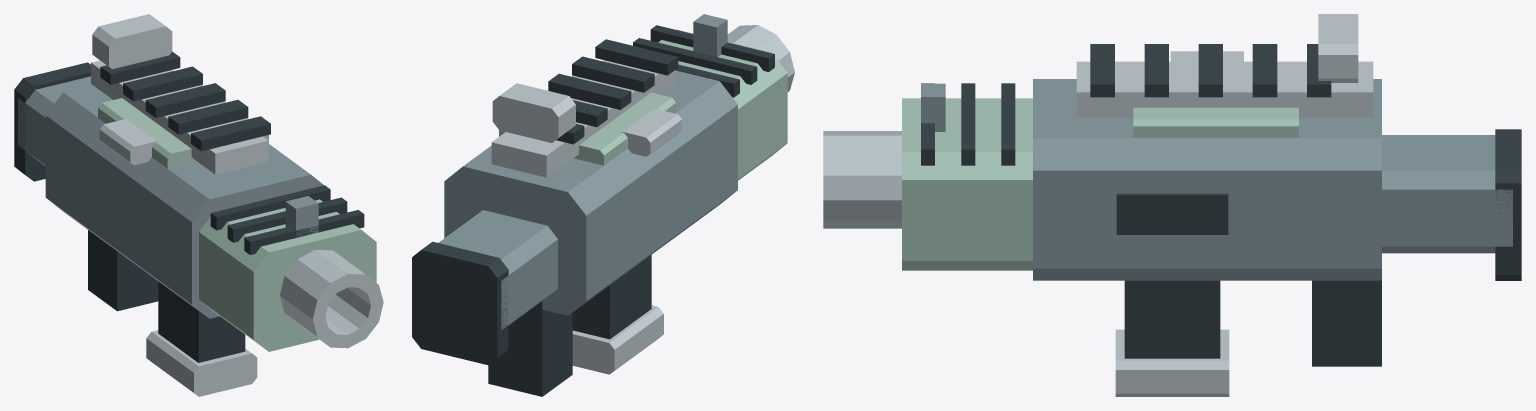
Rendered from smg.glb.
3 renders of one model, left to right at view 1: azimuth 30°, elevation 25°; view 2: azimuth 150°, elevation 25°; view 3: azimuth 270°, elevation 25°, orthographic. The views are drawn at different scales.
Visible parts, largest first — view 1: static:gunmetal, static:steel, static:sage-finish, static:dark-steel, static:rubber; view 2: static:gunmetal, static:rubber, static:steel, static:dark-steel, static:sage-finish; view 3: static:gunmetal, static:steel, static:sage-finish, static:dark-steel, static:rubber, static:recess.
Part boxes in pixels (x1,y1,x2,y2): static:gunmetal: (18, 76, 323, 318); static:steel: (91, 14, 383, 396); static:sage-finish: (98, 85, 376, 351); static:dark-steel: (100, 51, 270, 362); static:rubber: (14, 62, 364, 311); static:gunmetal: (438, 14, 737, 329); static:rubber: (412, 25, 774, 396); static:steel: (491, 25, 794, 374); static:dark-steel: (548, 39, 678, 339); static:sage-finish: (499, 29, 787, 180); static:gunmetal: (921, 79, 1512, 280); static:steel: (823, 14, 1373, 396); static:sage-finish: (902, 98, 1298, 270); static:dark-steel: (1090, 44, 1331, 358); static:rubber: (921, 83, 1521, 366); static:recess: (1116, 193, 1228, 234).
Size of the model in its own units: 0.1135 by 0.223 by 0.4.
